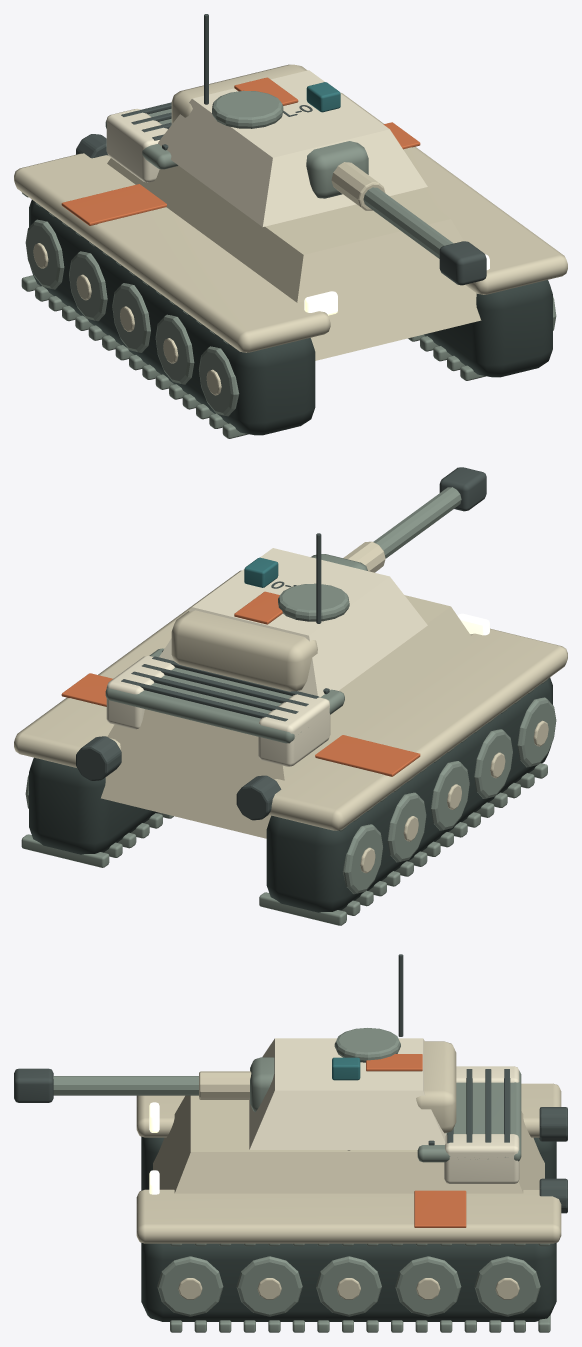
Rendered from tank-light.glb.
3 views of the same model, one above another, from view 1: azimuth 30°, elevation 25°; view 2: azimuth 150°, elevation 25°; view 3: azimuth 270°, elevation 25° (orthographic). The views are drawn at different scales.
Parts seen in each view (by area): view 1: LeftTrackAssembly, Hull, TurretYaw, RightTrackAssembly, GunPitch; view 2: LeftTrackAssembly, Hull, TurretYaw, RightTrackAssembly, GunPitch; view 3: RightTrackAssembly, Hull, TurretYaw, GunPitch, LeftTrackAssembly.
Part boxes in pixels (x1,y1,x2,y2): LeftTrackAssembly: (14, 153, 330, 438); Hull: (76, 102, 489, 360); TurretYaw: (158, 14, 427, 226); RightTrackAssembly: (340, 92, 567, 380); GunPitch: (306, 141, 486, 285); LeftTrackAssembly: (259, 628, 567, 925); Hull: (76, 595, 489, 838); TurretYaw: (159, 533, 427, 697); RightTrackAssembly: (14, 570, 241, 867); GunPitch: (311, 467, 486, 572); RightTrackAssembly: (136, 1189, 561, 1332); Hull: (149, 1066, 567, 1213); TurretYaw: (249, 954, 456, 1149); GunPitch: (14, 1057, 274, 1112); LeftTrackAssembly: (136, 1083, 561, 1190).
Bounding box in the file's own units: 3.71 × 3.29 × 5.87.
